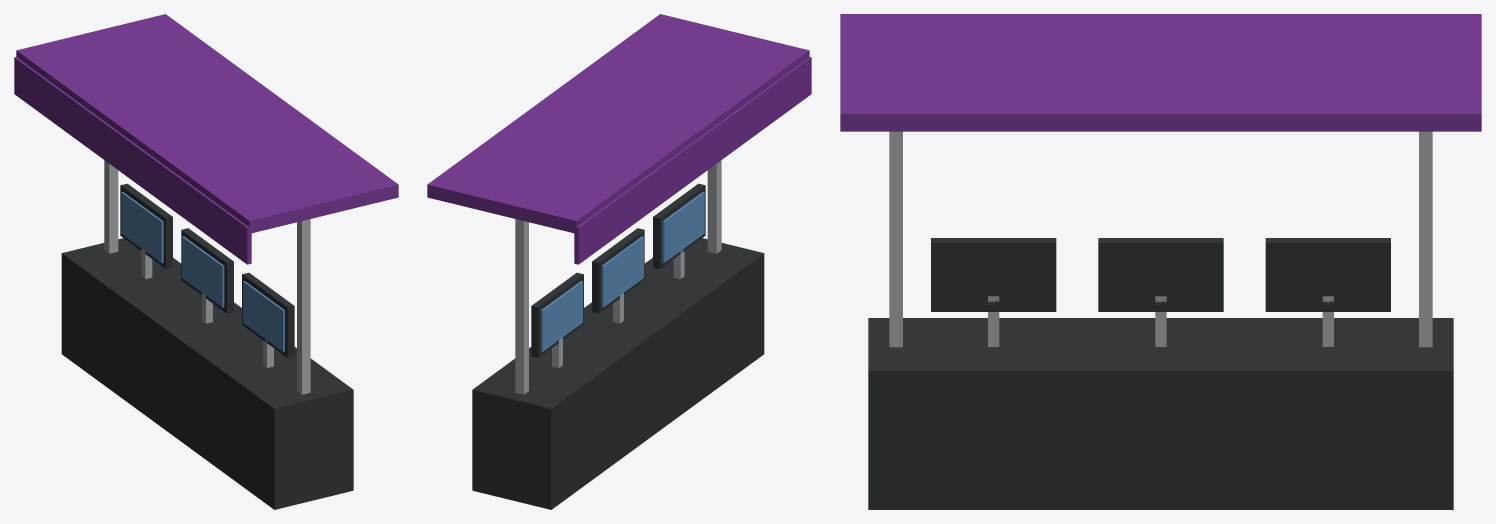
File: bancada_4.glb
3 views of the same model, side by side, from view 1: azimuth 30°, elevation 25°; view 2: azimuth 150°, elevation 25°; view 3: azimuth 270°, elevation 25° (orthographic). The views are drawn at different scales.
Parts seen in each view (by area): view 1: cor, esc, tel, aco; view 2: cor, esc, tel, aco; view 3: esc, cor, aco.
Part boxes in pixels (x1,y1,x2,y2): cor: [14, 14, 398, 264]; esc: [61, 183, 353, 509]; tel: [121, 192, 284, 351]; aco: [104, 160, 310, 394]; cor: [427, 14, 811, 264]; esc: [472, 183, 764, 509]; tel: [541, 192, 704, 351]; aco: [515, 160, 721, 394]; esc: [868, 238, 1453, 509]; cor: [840, 14, 1481, 131]; aco: [889, 131, 1432, 347].
Size of the model in its own units: 1.73 by 3.32 by 4.6.
